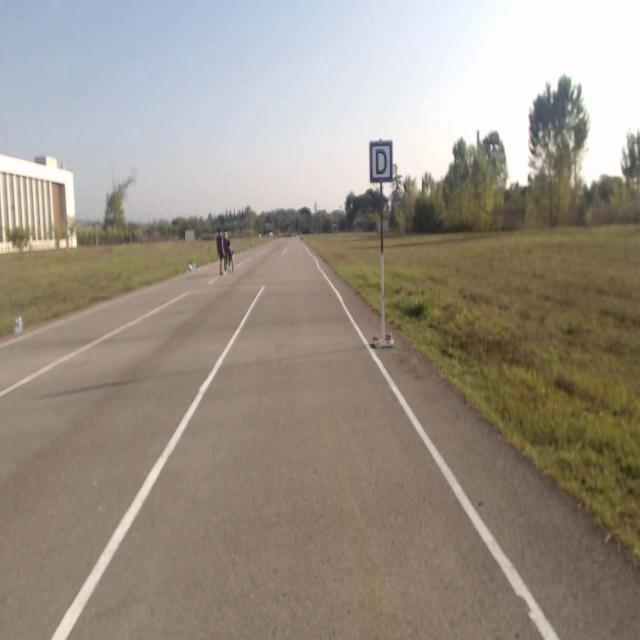durak: (370, 142, 392, 182)
